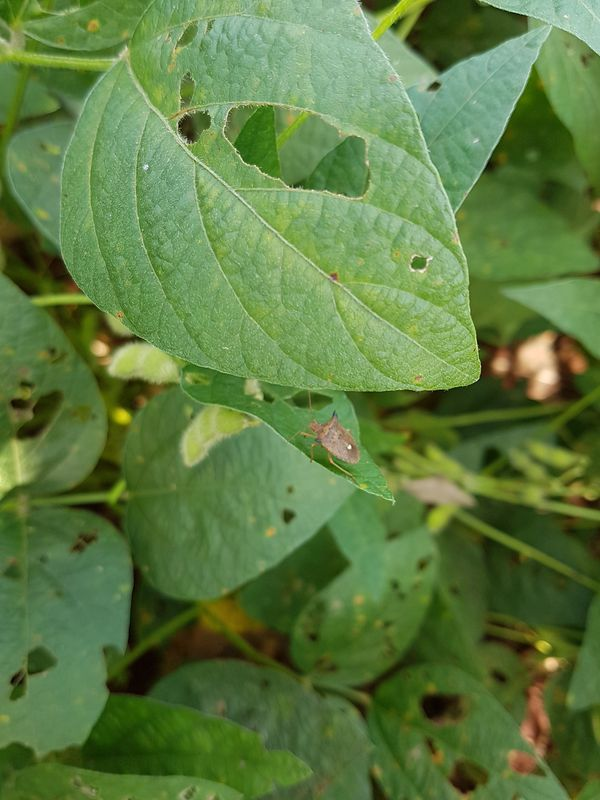Euschistus_heros_adulto: (287, 397, 379, 490)
